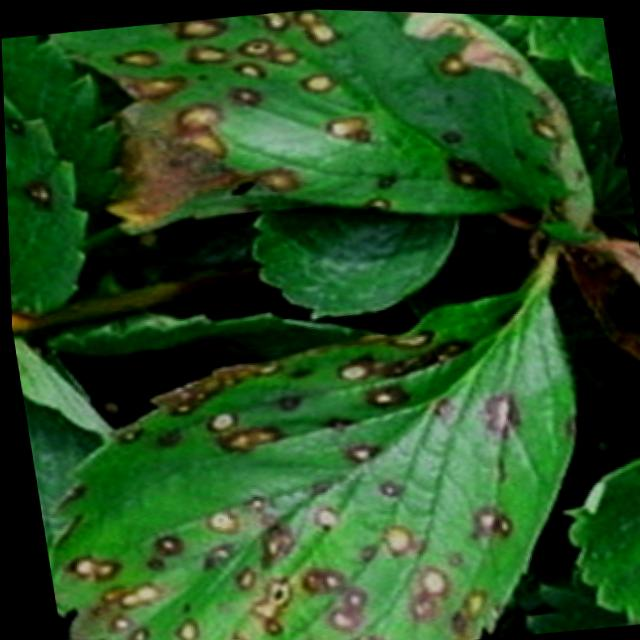Leaf Spot: (38, 238, 575, 640), (41, 7, 596, 230), (468, 11, 637, 237), (3, 89, 86, 317), (500, 12, 613, 79)
